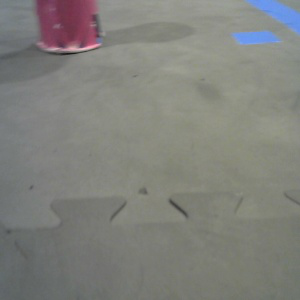middle: (36, 1, 102, 53)
